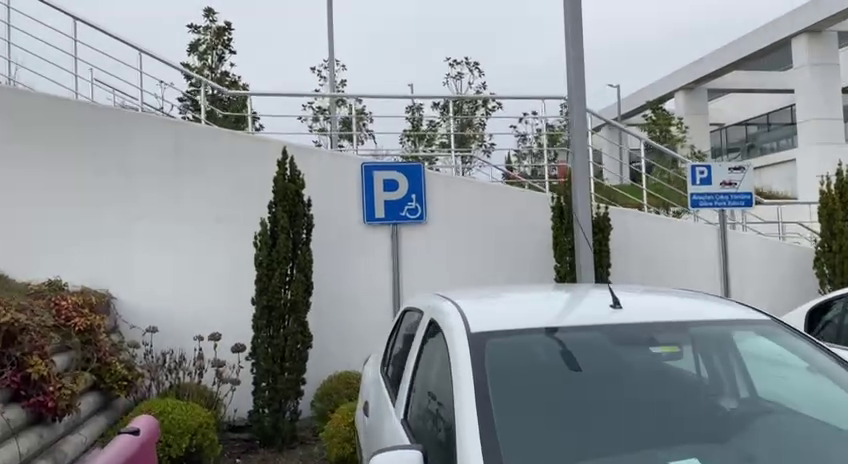parking: (360, 161, 429, 225), (689, 164, 713, 187)
